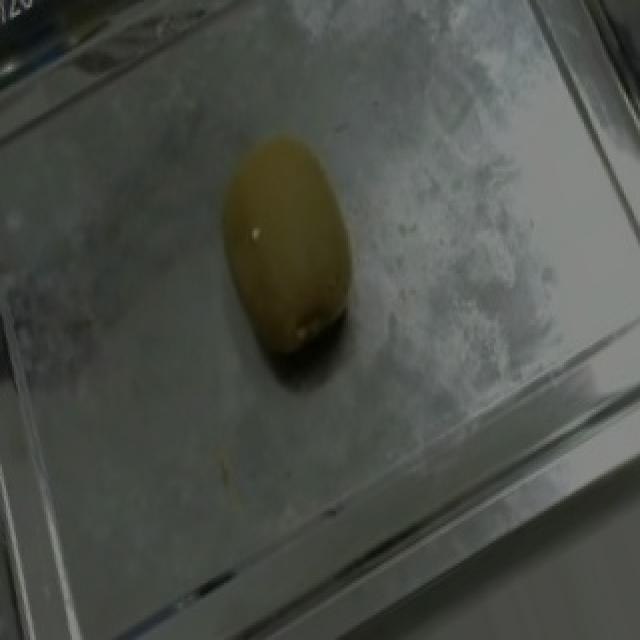Fruit: (182, 104, 396, 392)
